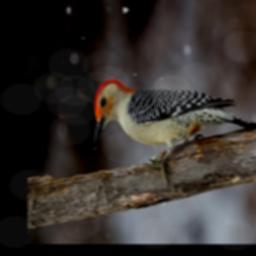Woodpecker: (93, 79, 256, 190)
